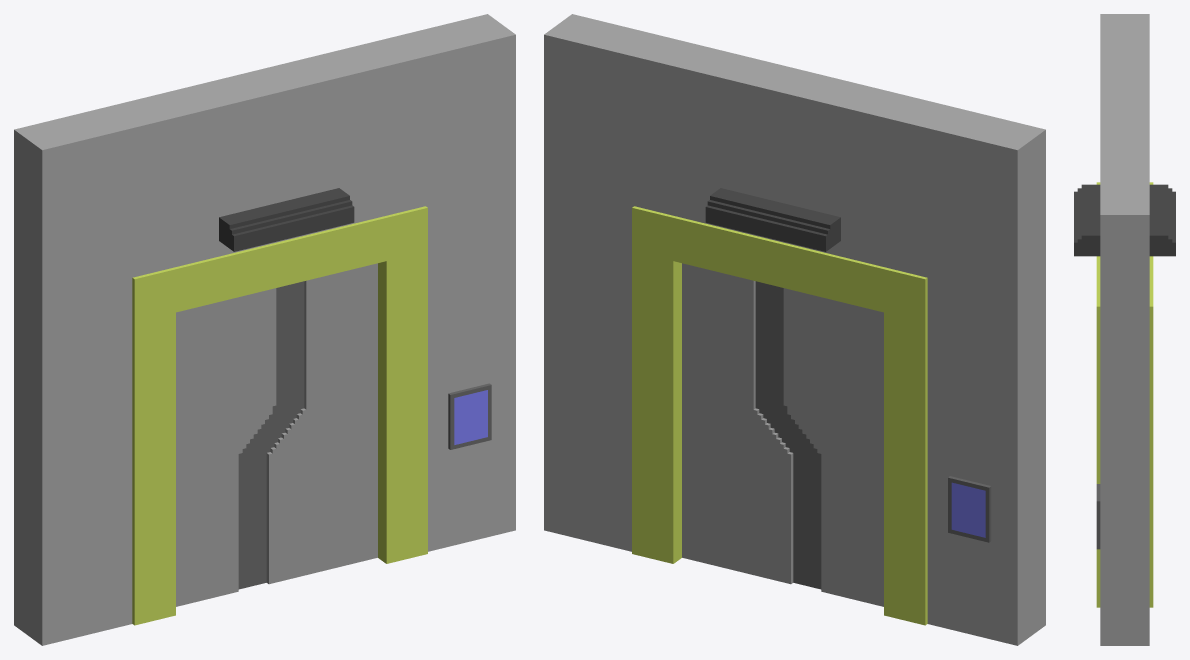
The model's file is Operating_room_Door1-1-1.fbx.
The picture shows the model from 3 angles, left to right: view 1: azimuth 30°, elevation 25°; view 2: azimuth 150°, elevation 25°; view 3: azimuth 270°, elevation 25°; orthographic projection. The views are drawn at different scales.
Visible parts, largest first — view 1: Operating room Door1-1-1.001, Operating room Door1-1-1.008, Operating room Door1-1-1.007, Operating room Door1-1-1.009; view 2: Operating room Door1-1-1.001, Operating room Door1-1-1.008, Operating room Door1-1-1.007, Operating room Door1-1-1.006; view 3: Operating room Door1-1-1.001.
Boxes of the visible parts, x1=… form: Operating room Door1-1-1.001: x1=14, y1=14, x2=515, y2=645; Operating room Door1-1-1.008: x1=251, y1=263, x2=377, y2=586; Operating room Door1-1-1.007: x1=176, y1=285, x2=289, y2=606; Operating room Door1-1-1.009: x1=454, y1=390, x2=487, y2=444; Operating room Door1-1-1.001: x1=544, y1=14, x2=1045, y2=645; Operating room Door1-1-1.008: x1=682, y1=263, x2=808, y2=586; Operating room Door1-1-1.007: x1=770, y1=285, x2=883, y2=606; Operating room Door1-1-1.006: x1=951, y1=482, x2=985, y2=537; Operating room Door1-1-1.001: x1=1074, y1=14, x2=1175, y2=645.
Size of the model in its own units: 12.6 by 12.6 by 2.7.
